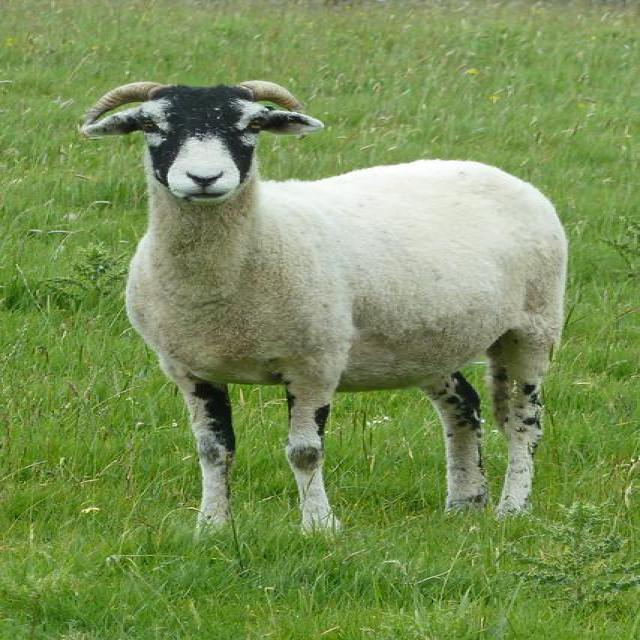Sheep: (76, 78, 568, 543)
